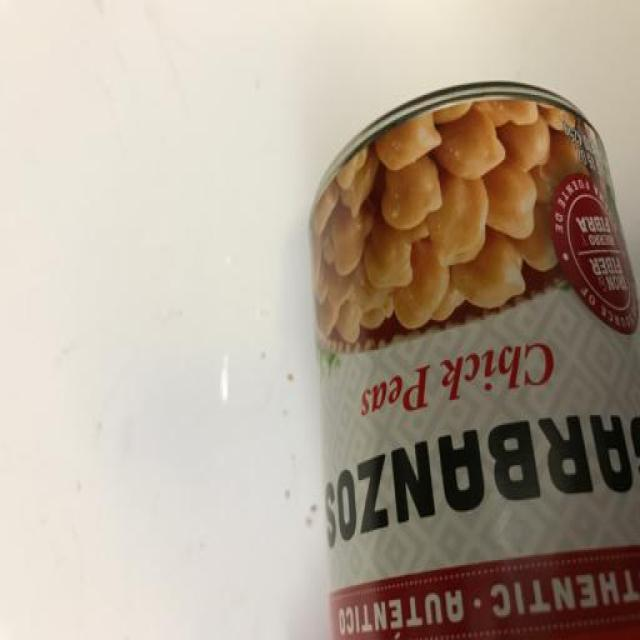metal: (307, 80, 638, 638)
